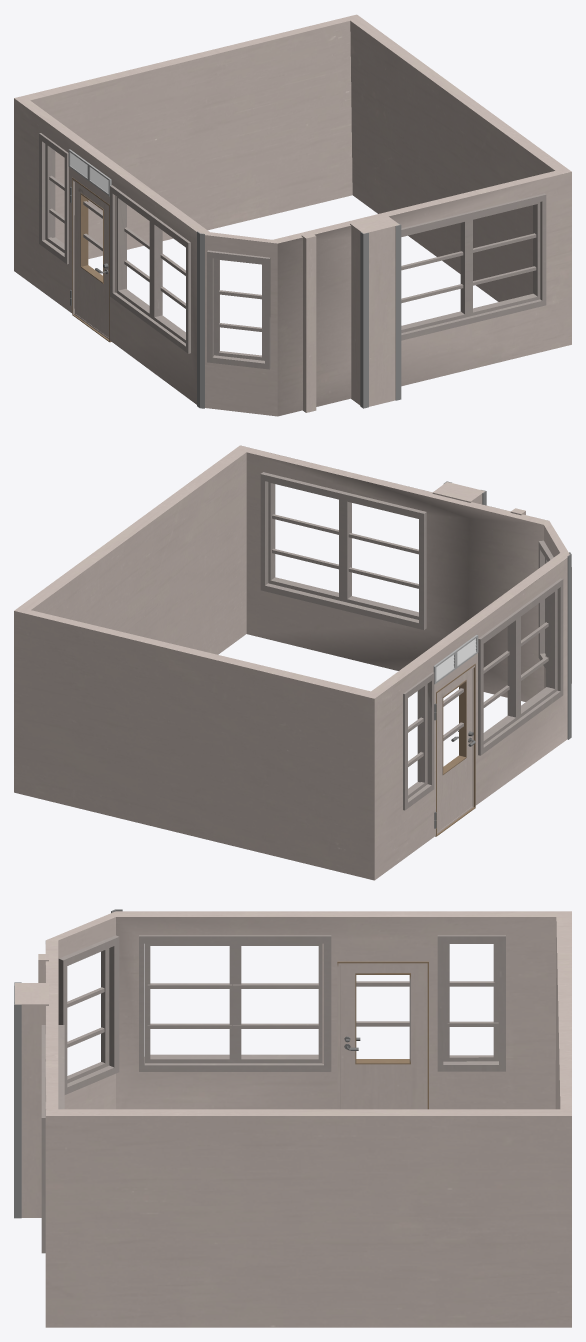
The model's file is Kauppa_Runko.fbx.
3 renders of one model, top to bottom at view 1: azimuth 30°, elevation 25°; view 2: azimuth 150°, elevation 25°; view 3: azimuth 270°, elevation 25°, orthographic. The views are drawn at different scales.
Visible parts, largest first — view 1: ShopExport; view 2: ShopExport; view 3: ShopExport.
Boxes of the visible parts, x1=… form: ShopExport: x1=14, y1=14, x2=571, y2=416; ShopExport: x1=14, y1=445, x2=571, y2=880; ShopExport: x1=14, y1=909, x2=571, y2=1327.
Size of the model in its own units: 6.68 by 3.21 by 7.57.
